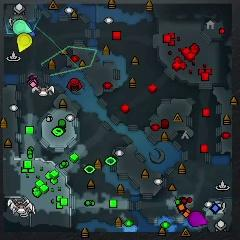p2: (12, 20, 33, 37)
p3: (188, 211, 209, 228)
p4: (18, 34, 33, 53), (25, 21, 37, 37)
